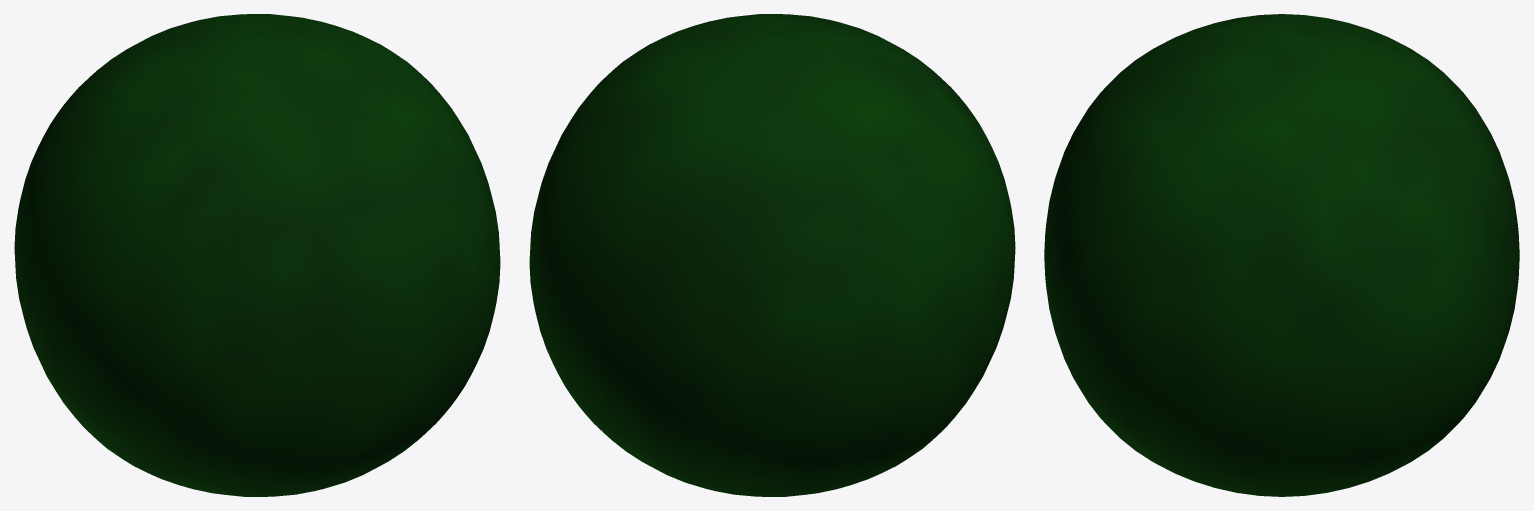
Rendered from space-planets-moons-green-planet_v1.glb.
3 renders of one model, left to right at view 1: azimuth 30°, elevation 25°; view 2: azimuth 150°, elevation 25°; view 3: azimuth 270°, elevation 25°, orthographic.
Parts seen in each view (by area): view 1: Green Planet; view 2: Green Planet; view 3: Green Planet.
Part boxes in pixels (x1,y1,x2,y2): Green Planet: (14,14,500,496); Green Planet: (529,14,1015,496); Green Planet: (1044,14,1519,496).
Size of the model in its own units: 0.5 by 0.5 by 0.5.
